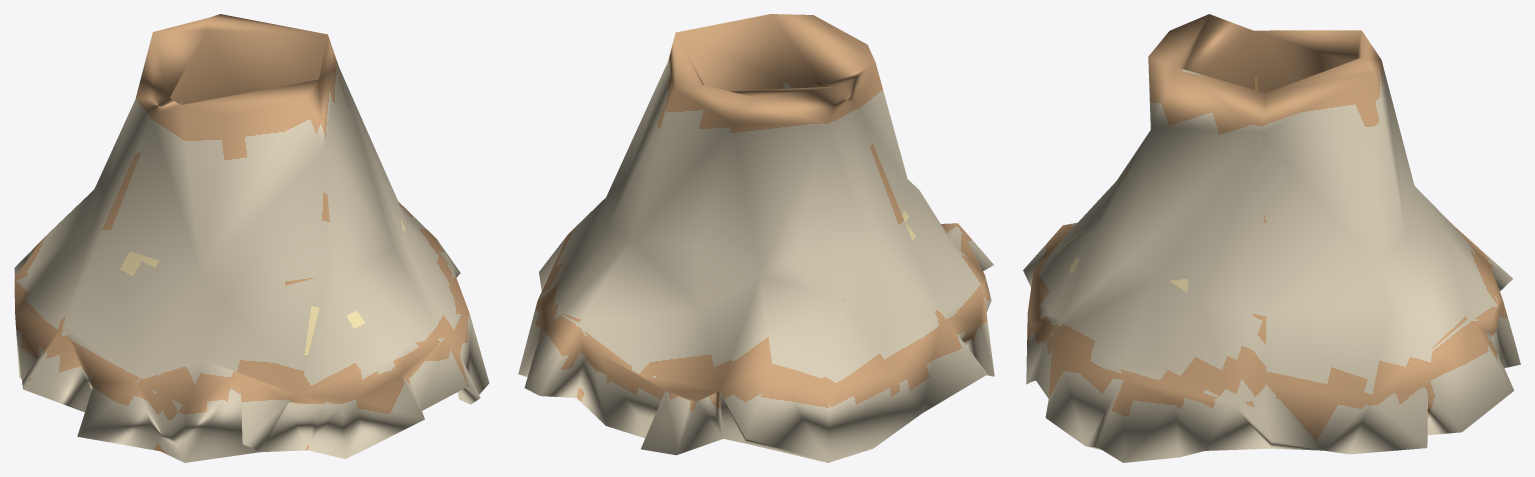
Rendered from hat-lampshade.glb.
3 renders of one model, left to right at view 1: azimuth 30°, elevation 25°; view 2: azimuth 150°, elevation 25°; view 3: azimuth 270°, elevation 25°, orthographic. The views are drawn at different scales.
Visible parts, largest first — view 1: tripo_node_6a19e7f1-637a-478e-9416-f9d1e3b1f5a6; view 2: tripo_node_6a19e7f1-637a-478e-9416-f9d1e3b1f5a6; view 3: tripo_node_6a19e7f1-637a-478e-9416-f9d1e3b1f5a6.
Part boxes in pixels (<box>): tripo_node_6a19e7f1-637a-478e-9416-f9d1e3b1f5a6: <box>14,14,489,462</box>; tripo_node_6a19e7f1-637a-478e-9416-f9d1e3b1f5a6: <box>518,14,994,462</box>; tripo_node_6a19e7f1-637a-478e-9416-f9d1e3b1f5a6: <box>1023,14,1520,462</box>.
Bounding box in the file's own units: 1 × 0.6942 × 0.9454.
1 material, 1 textured.
